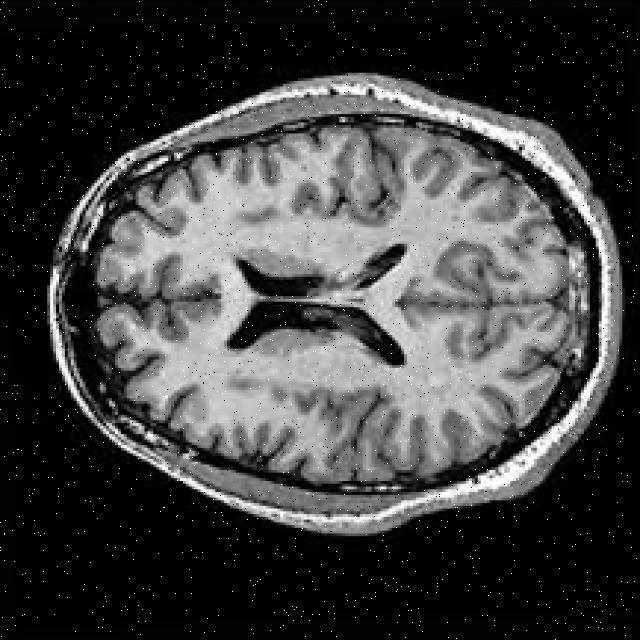No_Tumor: (48, 74, 622, 533)
